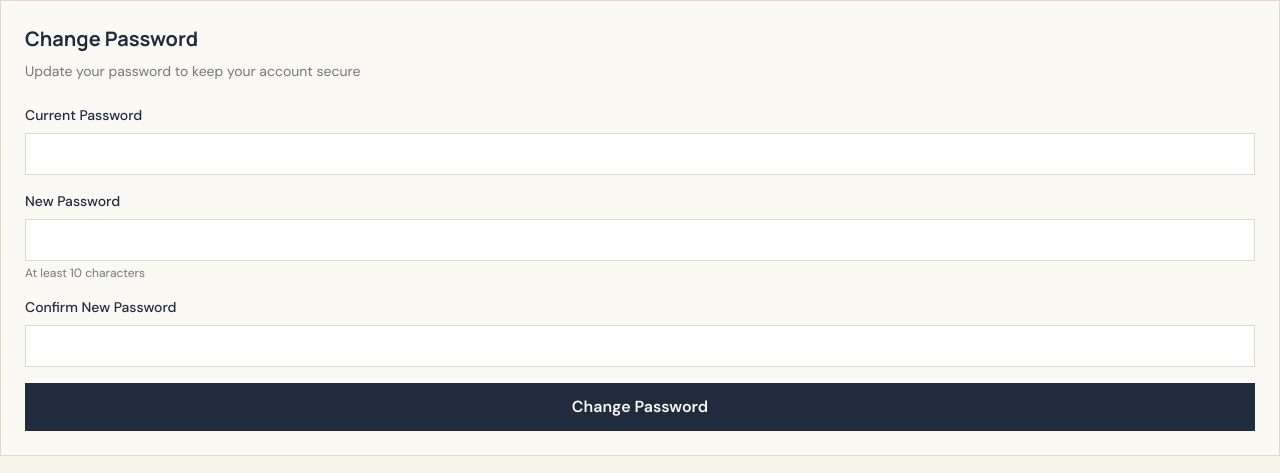
Test case: ChangePasswordForm › disables submit button while submitting
The image size is (1280, 473).
Type "oldpassword123" into the password field labelled "Current Password" at coordinates (640, 154), box [25,133,1255,175]
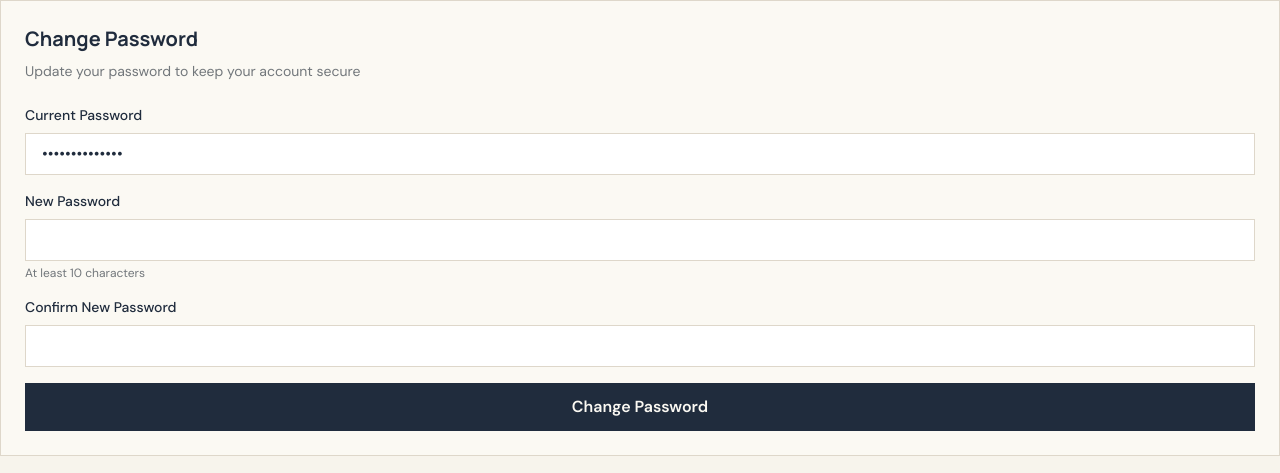
Type "newpassword123" into the password field labelled "New Password" at coordinates (640, 240), box [25,219,1255,261]
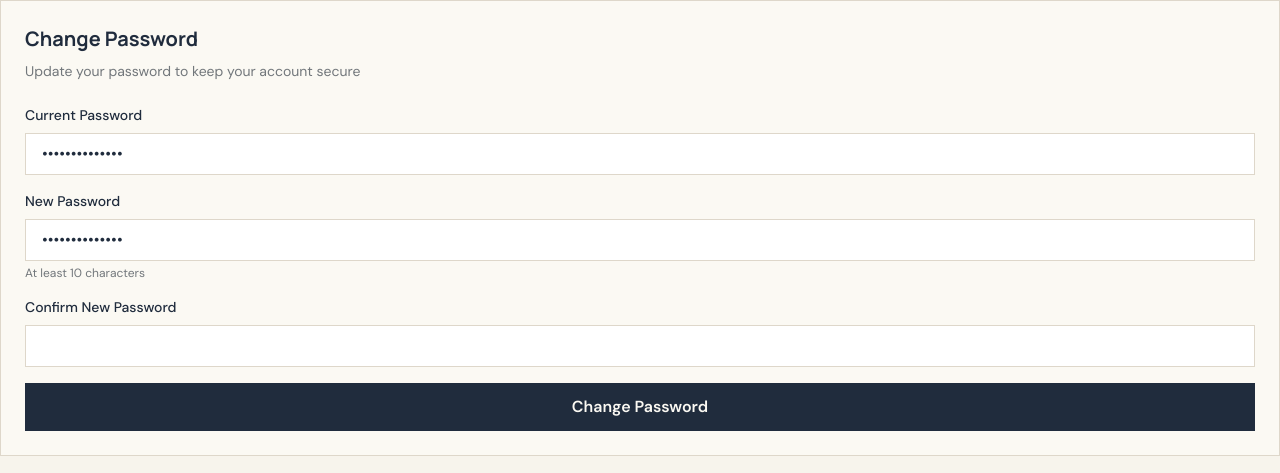
Type "newpassword123" into the password field labelled "Confirm New Password" at coordinates (640, 346), box [25,325,1255,367]
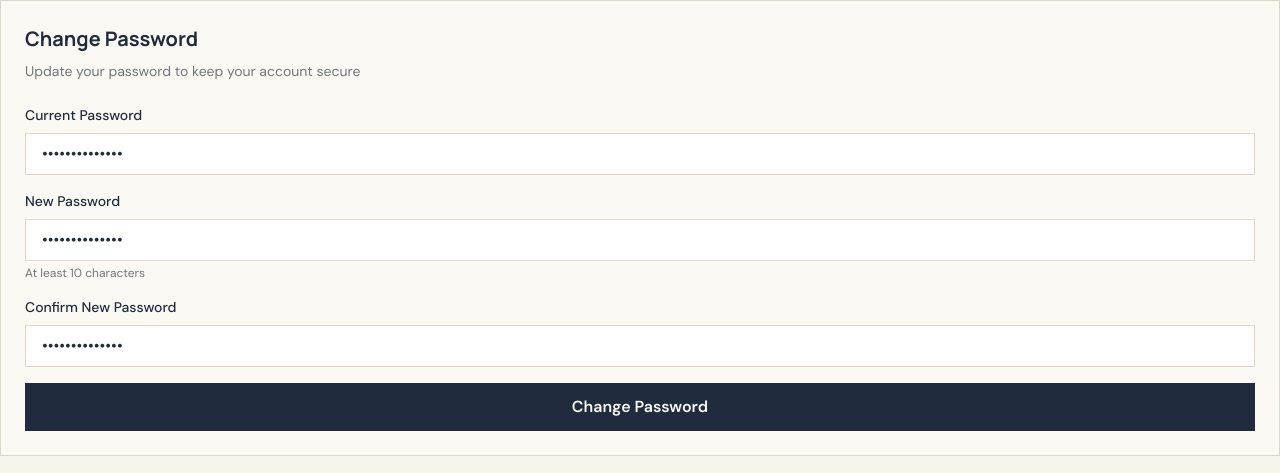
Click the button "Change Password" at coordinates (640, 407), box [25,383,1255,431]
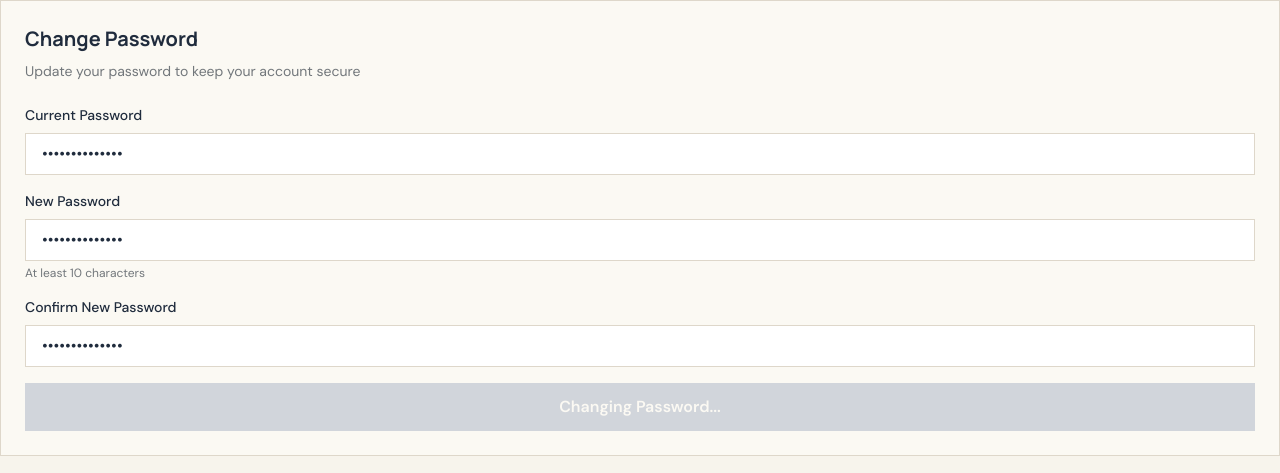
Check: the button named "change password" is disabled, box [25,383,1255,431]
